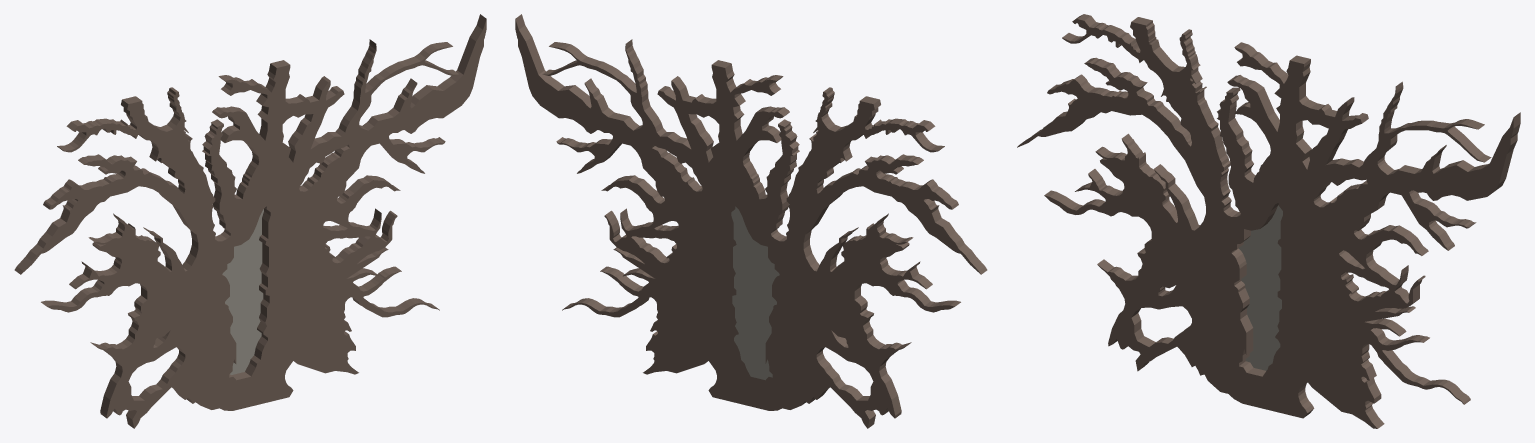
File: portal.glb
The picture shows the model from 3 angles, left to right: view 1: azimuth 30°, elevation 25°; view 2: azimuth 150°, elevation 25°; view 3: azimuth 330°, elevation 25°; orthographic projection. The views are drawn at different scales.
Visible parts, largest first — view 1: Node2, Node1570; view 2: Node1, Node1570; view 3: Node2, Node1570.
Boxes of the visible parts, left/top/right/bottom form: Node2: left=21, top=19, right=486, bottom=428; Node1570: left=222, top=209, right=263, bottom=374; Node1: left=515, top=19, right=980, bottom=428; Node1570: left=731, top=206, right=779, bottom=380; Node2: left=1017, top=19, right=1513, bottom=428; Node1570: left=1238, top=205, right=1282, bottom=370.
Size of the model in its own units: 222 by 151 by 5.34.
